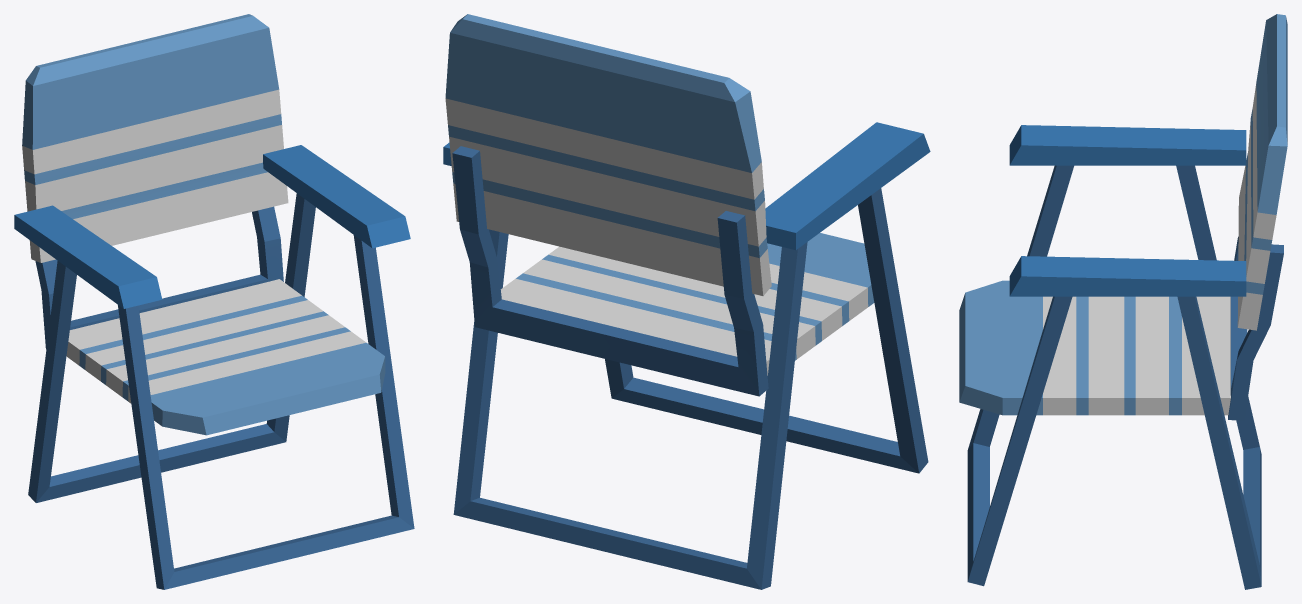
File: chair-v1-transformed.glb
3 renders of one model, left to right at view 1: azimuth 30°, elevation 25°; view 2: azimuth 150°, elevation 25°; view 3: azimuth 270°, elevation 25°, orthographic. The views are drawn at different scales.
Parts seen in each view (by area): view 1: SM_Prop_Deckchair_01; view 2: SM_Prop_Deckchair_01; view 3: SM_Prop_Deckchair_01.
Part boxes in pixels (x1=…): SM_Prop_Deckchair_01: x1=14, y1=14, x2=414, y2=589; SM_Prop_Deckchair_01: x1=443, y1=14, x2=930, y2=589; SM_Prop_Deckchair_01: x1=959, y1=14, x2=1287, y2=589.
Bounding box in the file's own units: 0.673 × 0.9415 × 0.6169.
Materials: 1 (1 with a texture image).
